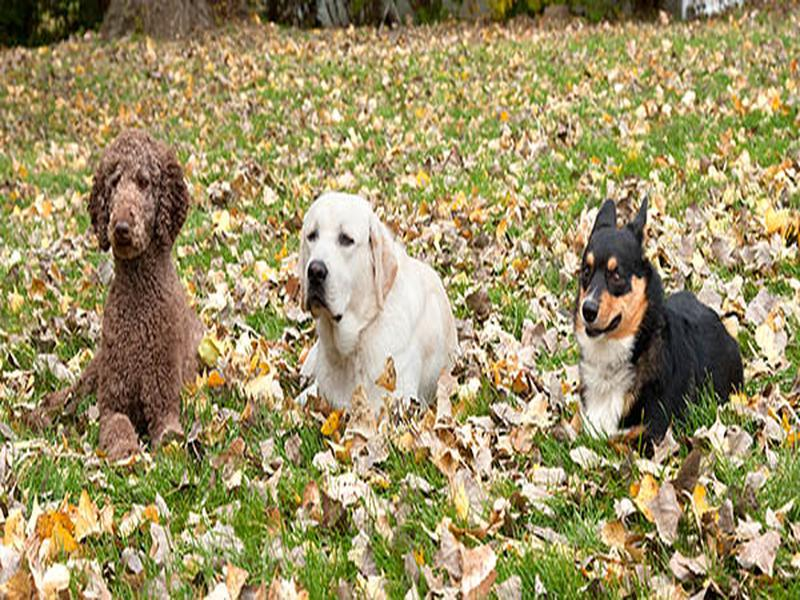dog_down: (23, 131, 208, 457), (566, 198, 747, 451), (287, 189, 465, 429)
